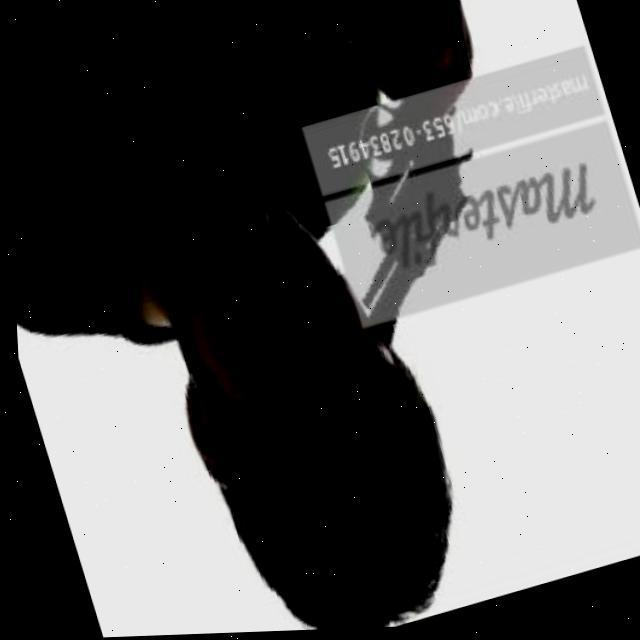gun: (277, 39, 531, 376)
